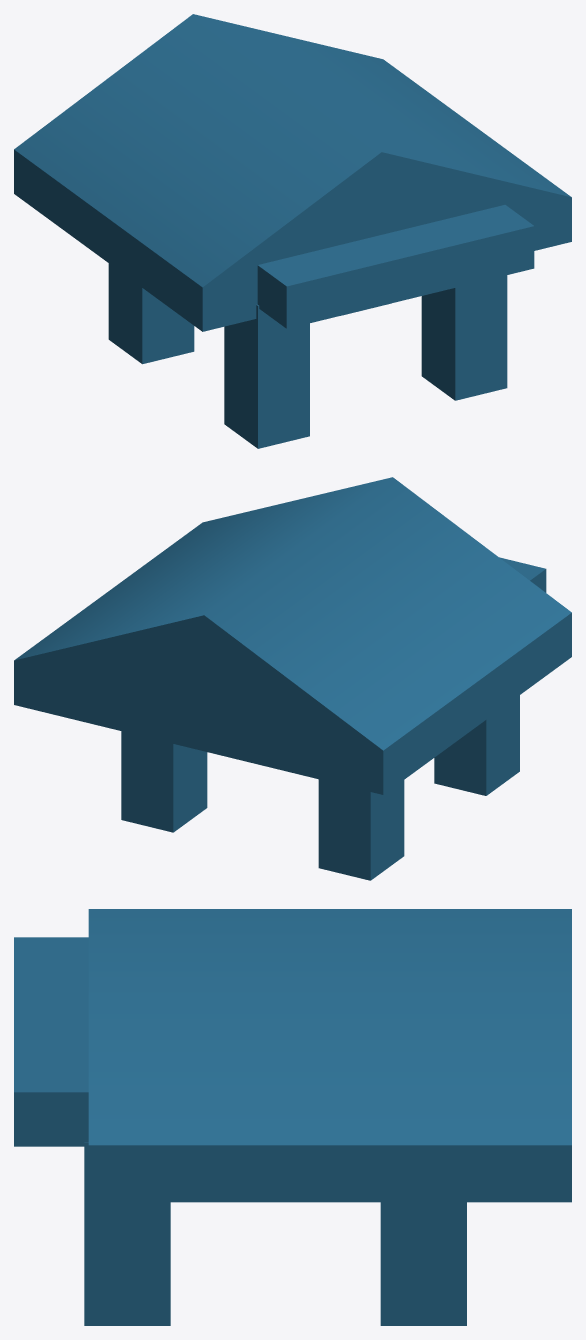
File: SM_Bld_Facade_Background_01_Collision.fbx
3 views of the same model, one above another, from view 1: azimuth 30°, elevation 25°; view 2: azimuth 150°, elevation 25°; view 3: azimuth 270°, elevation 25° (orthographic). The views are drawn at different scales.
Parts seen in each view (by area): view 1: SM_Bld_Facade_Background_01_Collision; view 2: SM_Bld_Facade_Background_01_Collision; view 3: SM_Bld_Facade_Background_01_Collision.
Part boxes in pixels (<box>): SM_Bld_Facade_Background_01_Collision: <box>14,14,571,448</box>; SM_Bld_Facade_Background_01_Collision: <box>14,477,571,880</box>; SM_Bld_Facade_Background_01_Collision: <box>14,909,571,1325</box>.
Size of the model in its own units: 1238 by 848 by 1264.
